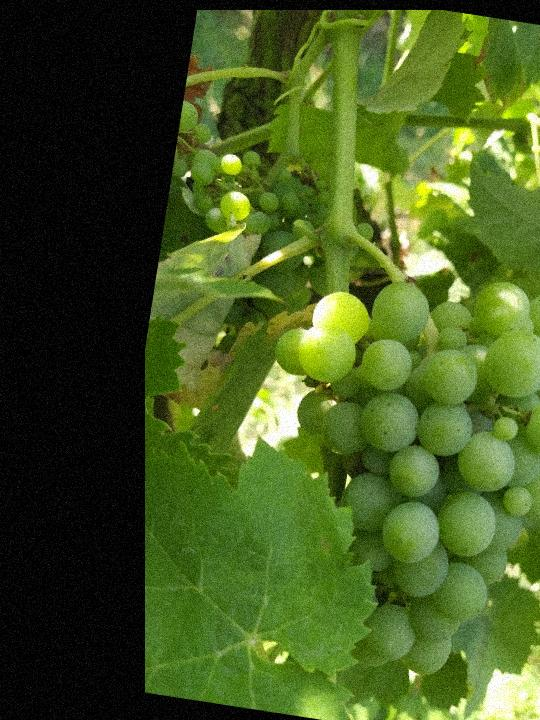grape: (225, 246, 540, 698)
